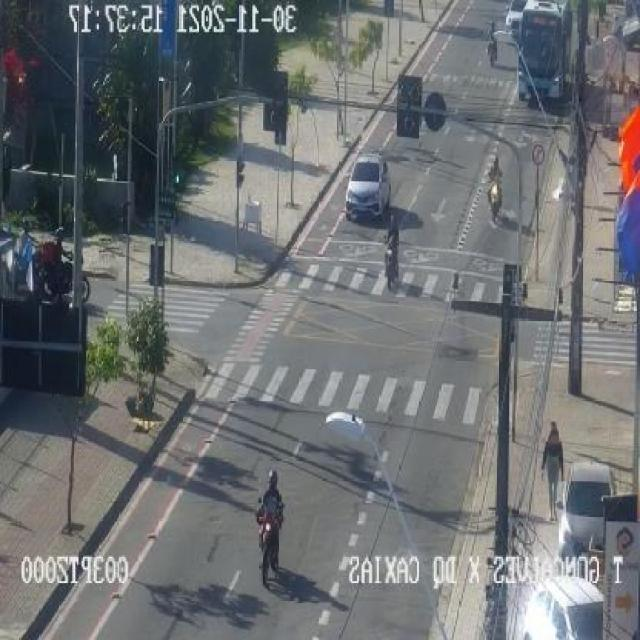Bus: (515, 0, 572, 102)
Car: (344, 151, 393, 220)
Cycle: (252, 459, 286, 588), (381, 214, 399, 293), (488, 154, 502, 228), (483, 17, 500, 73)
